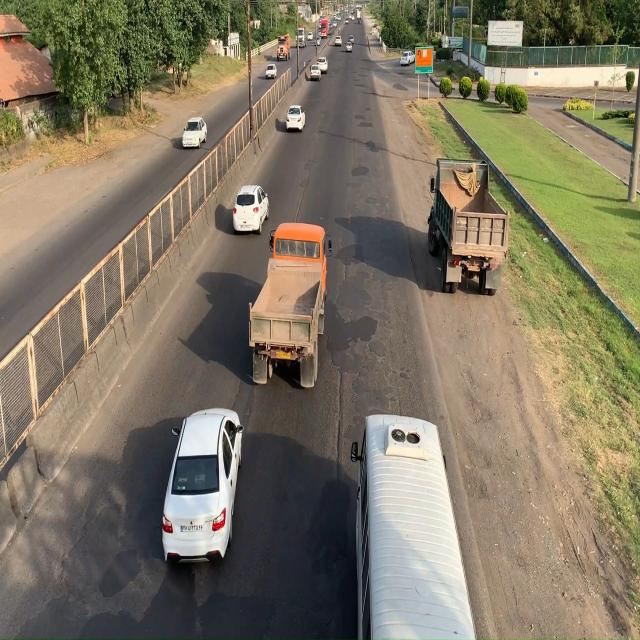Bus: (349, 393, 477, 640)
Truck: (425, 160, 510, 303), (270, 220, 328, 380)
cars: (158, 400, 248, 570), (232, 180, 268, 233), (183, 114, 207, 148), (284, 99, 308, 133)
